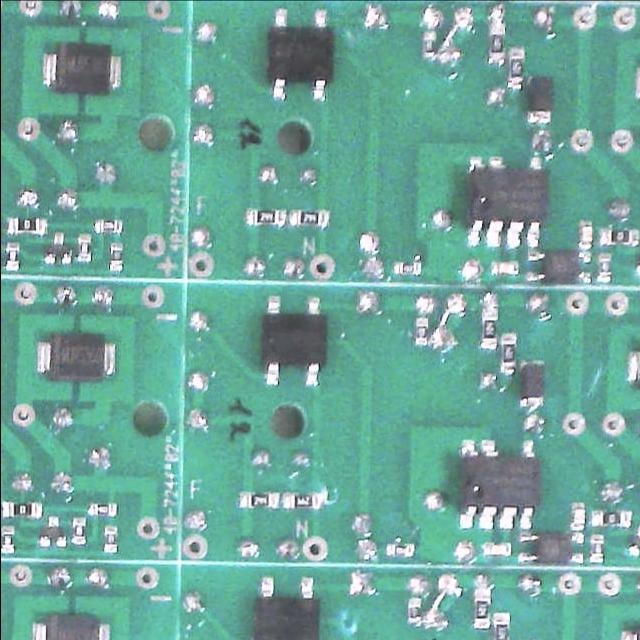chip-capacitor: (481, 541, 510, 555), (571, 503, 584, 529), (491, 262, 517, 274), (581, 221, 592, 244)
chip-resistor: (473, 589, 490, 629), (239, 491, 278, 508), (593, 510, 631, 527), (480, 311, 497, 349), (3, 502, 42, 518), (281, 492, 319, 508), (8, 217, 44, 233), (500, 334, 516, 369), (491, 611, 510, 640), (599, 229, 637, 243), (488, 26, 504, 59), (508, 50, 523, 82), (293, 211, 327, 225), (248, 210, 284, 223), (385, 543, 414, 557), (71, 517, 86, 544), (77, 234, 91, 262), (406, 597, 421, 623), (5, 242, 19, 269), (88, 502, 117, 515), (590, 534, 603, 562), (103, 527, 117, 553), (1, 526, 14, 554), (415, 318, 428, 345), (94, 219, 121, 232), (110, 243, 123, 269), (598, 254, 610, 282), (395, 262, 420, 274), (422, 32, 434, 56)
diode: (44, 43, 119, 94), (37, 335, 115, 381), (33, 614, 108, 640), (519, 359, 544, 405), (526, 76, 550, 123)
ic: (458, 439, 541, 531), (465, 156, 547, 248), (265, 8, 332, 103), (259, 296, 326, 386), (253, 576, 320, 640), (525, 249, 591, 283), (518, 532, 585, 564)
transistor: (40, 516, 67, 548), (45, 232, 71, 264)
